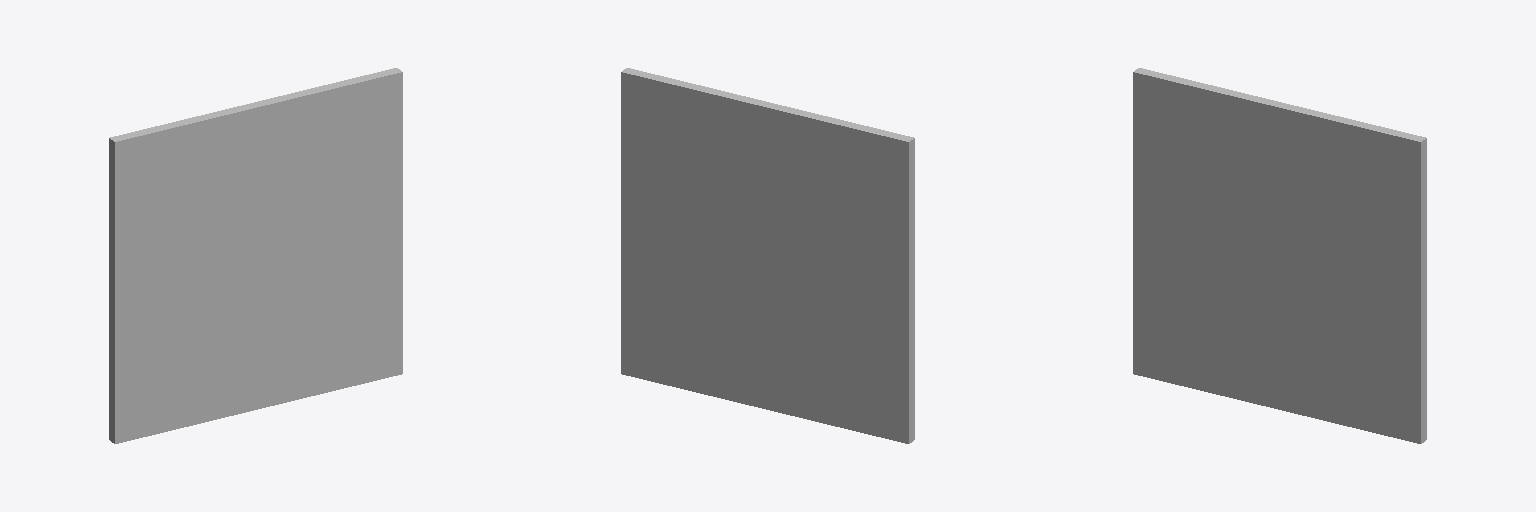
File: curtain_closed.obj
The picture shows the model from 3 angles: view 1: azimuth 30°, elevation 25°; view 2: azimuth 150°, elevation 25°; view 3: azimuth 330°, elevation 25°; orthographic projection.
Visible parts, largest first — view 1: curtains_closed_Plane; view 2: curtains_closed_Plane; view 3: curtains_closed_Plane.
Boxes of the visible parts, <box> form: curtains_closed_Plane: <box>109,68,402,443</box>; curtains_closed_Plane: <box>621,68,914,443</box>; curtains_closed_Plane: <box>1133,68,1426,443</box>.
Bounding box in the file's own units: 1 × 1 × 0.036.